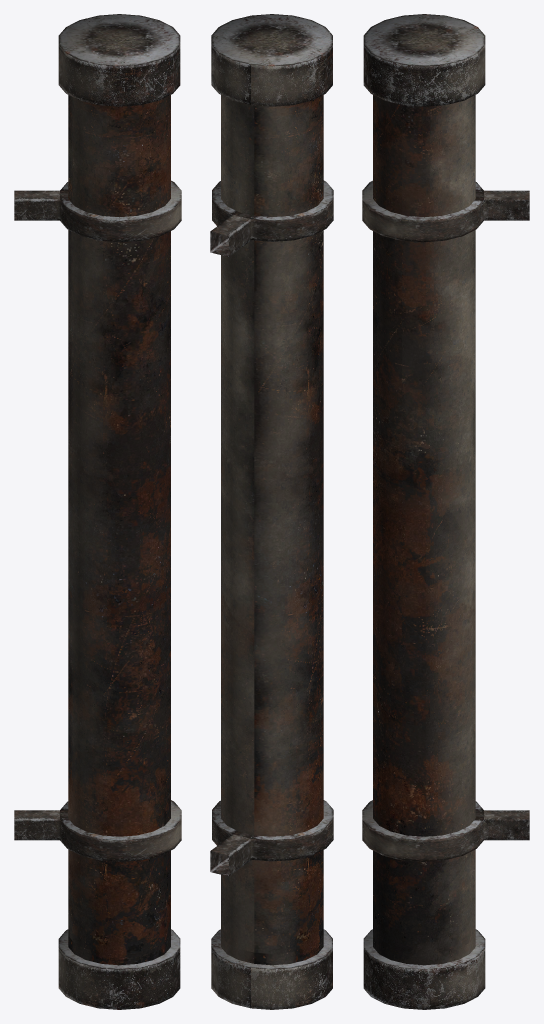
The model's file is SM_Pipe2m.FBX.
3 renders of one model, left to right at view 1: azimuth 90°, elevation 25°; view 2: azimuth 150°, elevation 25°; view 3: azimuth 270°, elevation 25°, orthographic.
Visible parts, largest first — view 1: SM_Pipe2m; view 2: SM_Pipe2m; view 3: SM_Pipe2m.
Part boxes in pixels (x1,y1,x2,y2): SM_Pipe2m: (14,14,181,1009); SM_Pipe2m: (210,14,333,1009); SM_Pipe2m: (362,14,529,1009).
Bounding box in the file's own units: 23.73 × 32.13 × 200.
